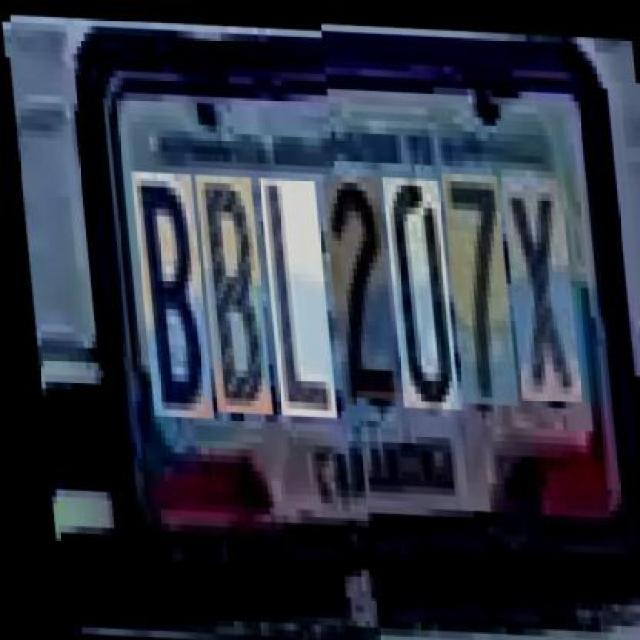0: (378, 173, 452, 405)
2: (319, 171, 392, 395)
7: (438, 168, 512, 401)
b: (127, 162, 205, 410), (191, 166, 264, 406)
l: (256, 168, 330, 408)
x: (498, 172, 574, 396)
